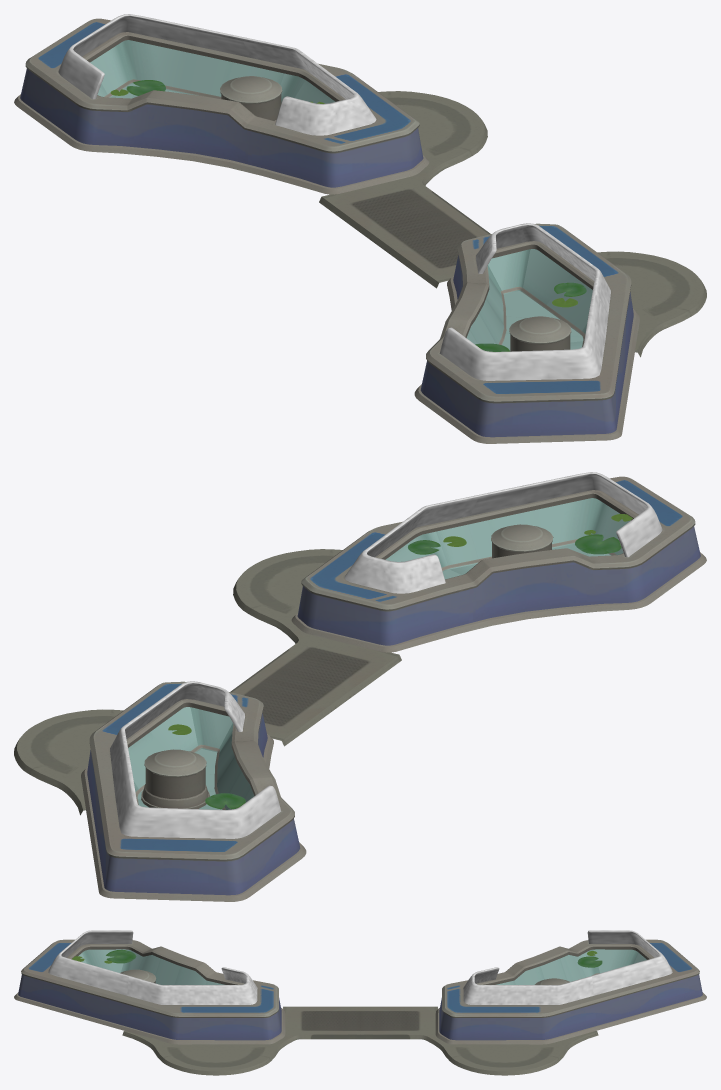
File: pref_sm_beach_techcenter_floor01_lv3.fbx
3 renders of one model, top to bottom at view 1: azimuth 30°, elevation 25°; view 2: azimuth 150°, elevation 25°; view 3: azimuth 270°, elevation 25°, orthographic. The views are drawn at different scales.
Visible parts, largest first — view 1: sm_beach_techcenter_floor01a_lv3, sm_beach_techcenter_floor01c_lv3, sm_beach_techcenter_floor01d_lv3; view 2: sm_beach_techcenter_floor01a_lv3, sm_beach_techcenter_floor01c_lv3, sm_beach_techcenter_floor01d_lv3; view 3: sm_beach_techcenter_floor01a_lv3, sm_beach_techcenter_floor01c_lv3, sm_beach_techcenter_floor01d_lv3.
Boxes of the visible parts, x1,y1,x2,y2 form: sm_beach_techcenter_floor01a_lv3: (14, 18, 706, 443); sm_beach_techcenter_floor01c_lv3: (58, 14, 610, 380); sm_beach_techcenter_floor01d_lv3: (110, 80, 586, 351); sm_beach_techcenter_floor01a_lv3: (14, 476, 706, 901); sm_beach_techcenter_floor01c_lv3: (110, 472, 662, 838); sm_beach_techcenter_floor01d_lv3: (168, 514, 632, 809); sm_beach_techcenter_floor01a_lv3: (14, 939, 706, 1075); sm_beach_techcenter_floor01c_lv3: (48, 930, 672, 1004); sm_beach_techcenter_floor01d_lv3: (72, 949, 602, 967).
Size of the model in its own units: 13.03 by 2.54 by 34.89.
